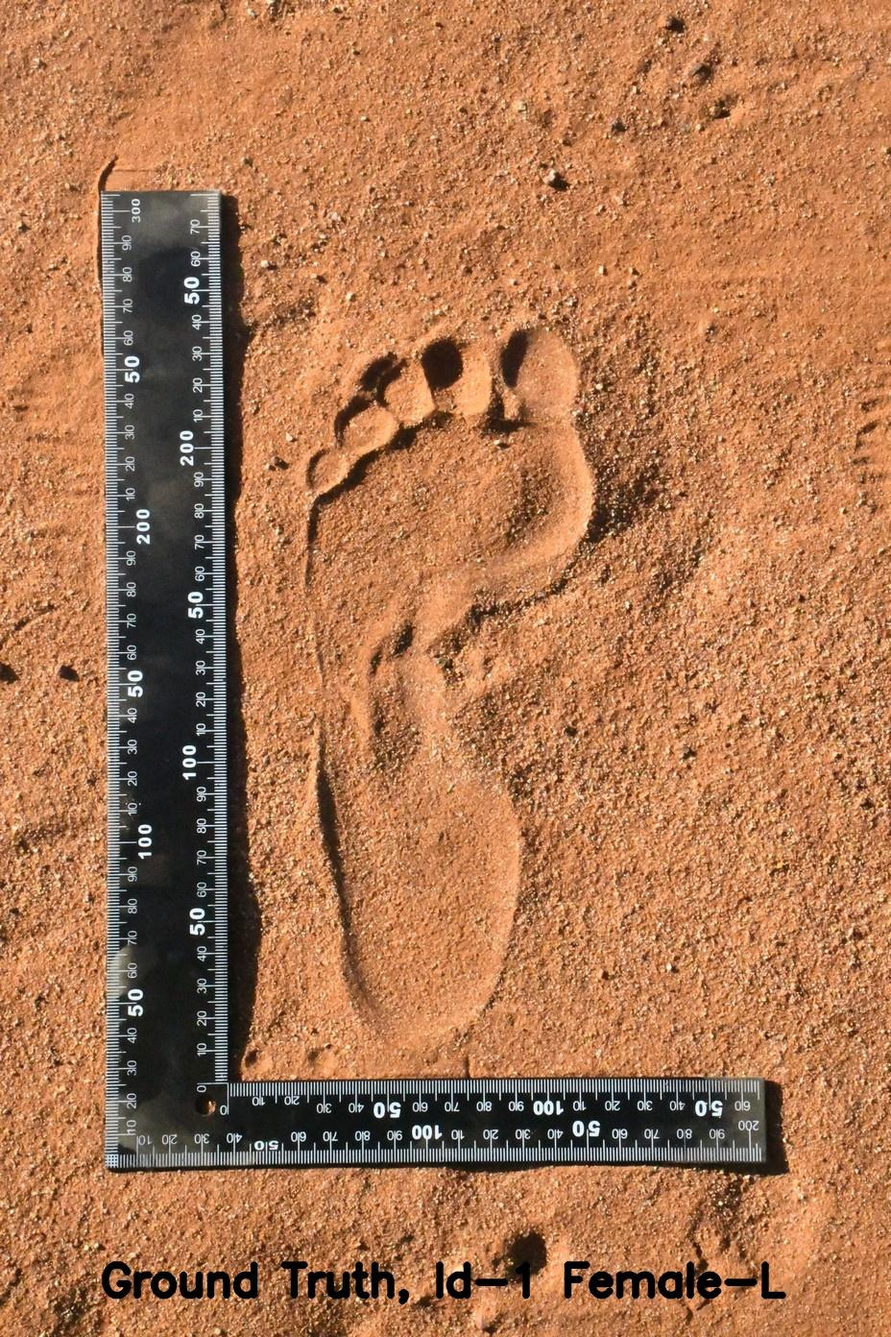human_foot_print: (263, 266, 638, 1079)
